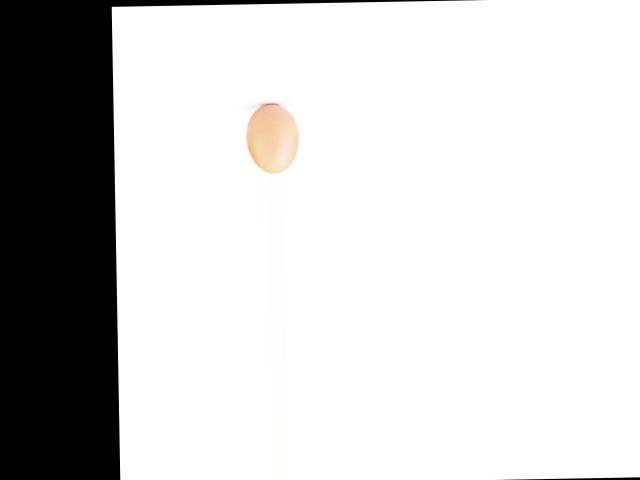egg: (245, 103, 298, 173)
